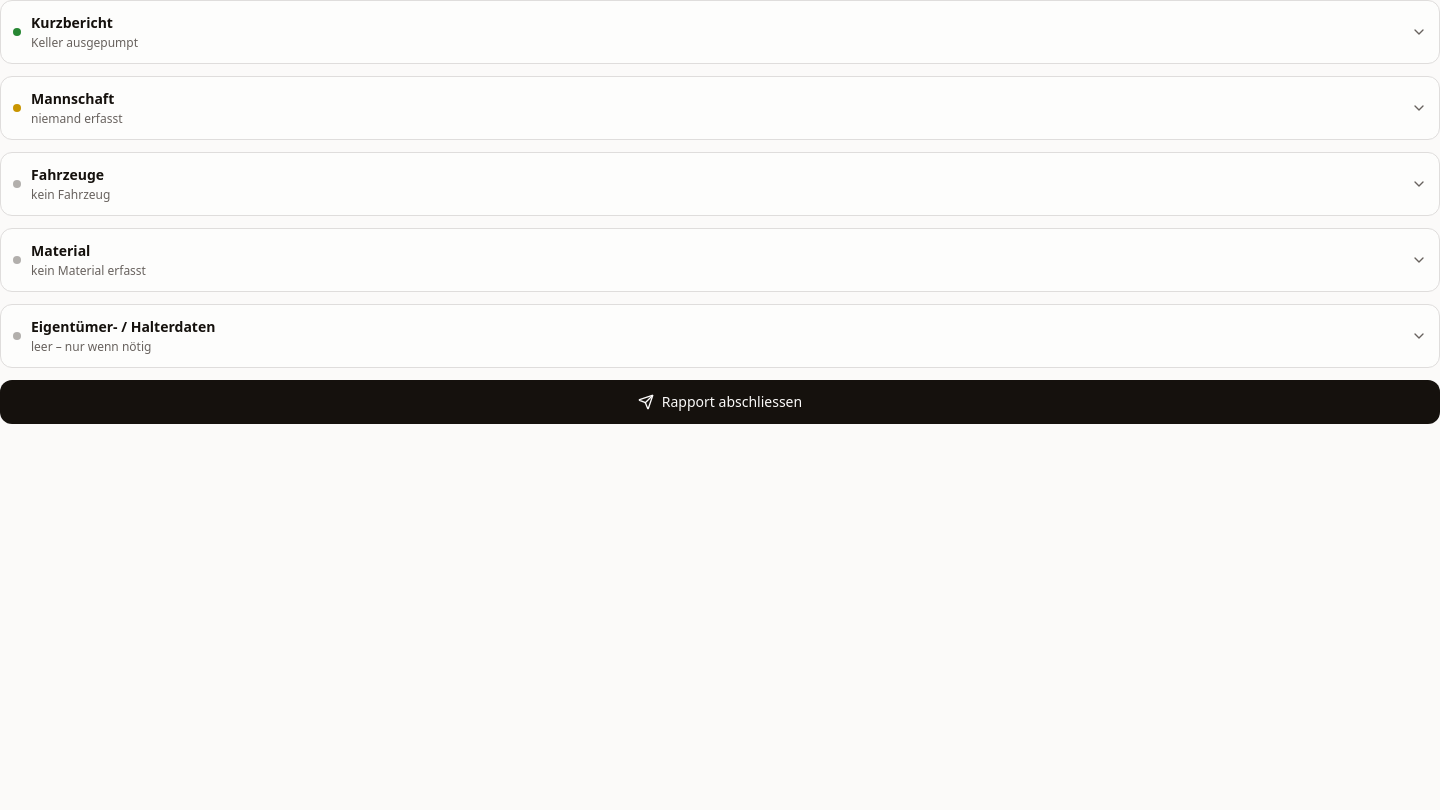
Test: the Abschluss question (UX-PHONE-05) › names the Mannschaft when only the crew is missing
Click the button "Rapport abschliessen" at (720, 402), box [0,380,1439,424]
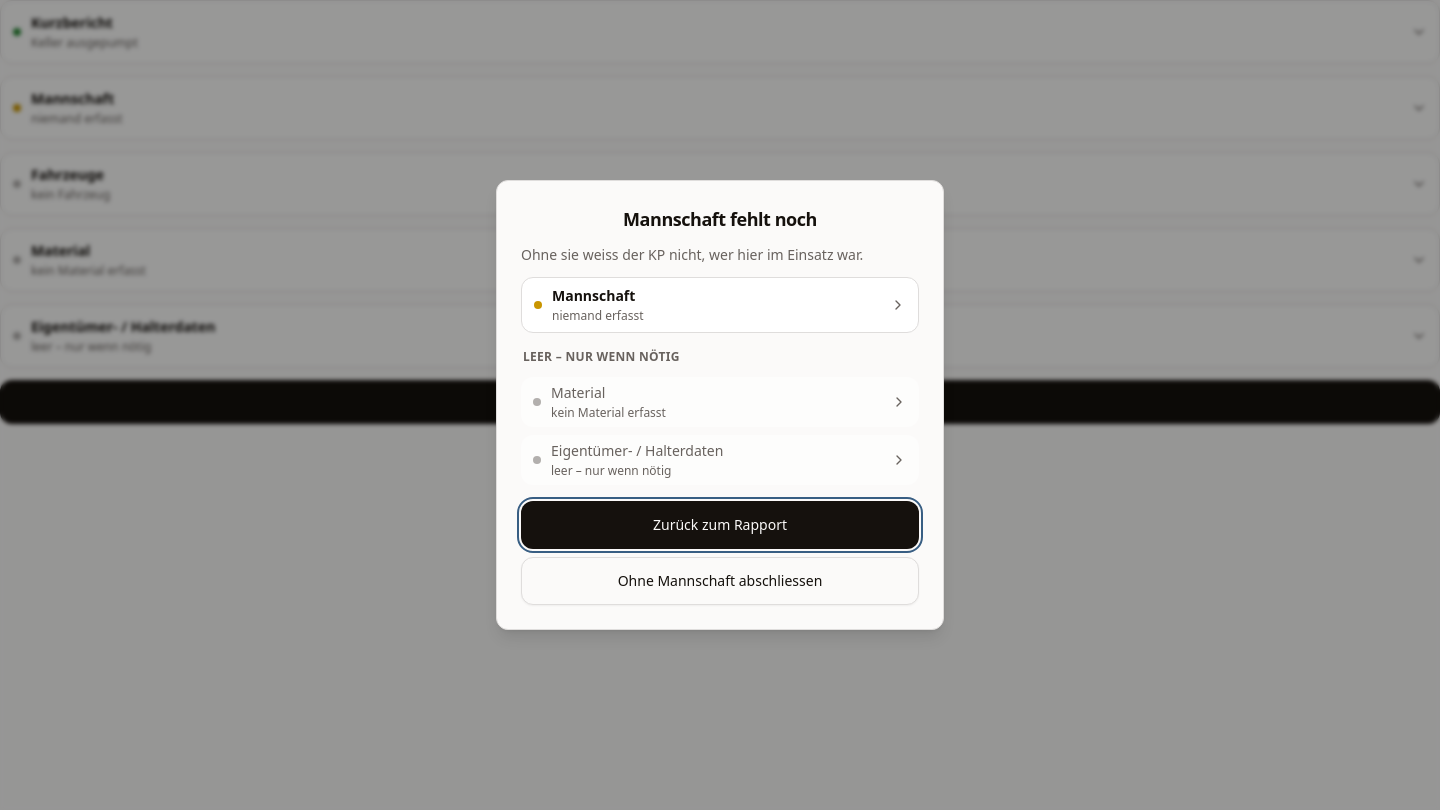
Check: the heading "Mannschaft fehlt noch" is shown, box [623,207,817,231]
Check: the text "Ohne sie weiss der KP nicht, wer hier im Einsatz war." is shown, box [521,245,919,265]
Check: the button "Ohne Mannschaft abschliessen" is shown, box [521,557,919,605]
